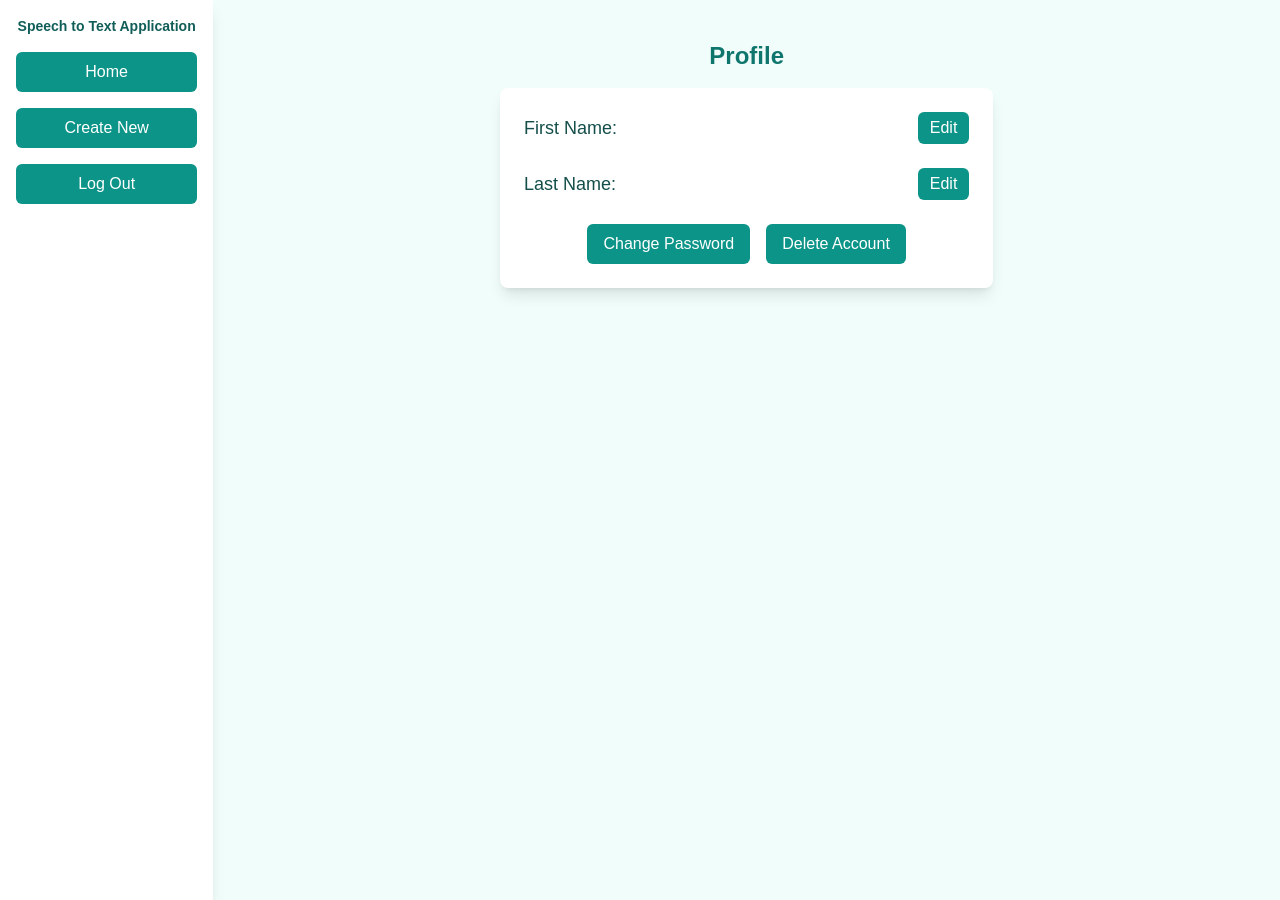
Profile Component › opens and closes the edit first name modal
Click the button "Edit" in the row of "First Name:" at {"x": 944, "y": 128}, box [918,112,969,144]
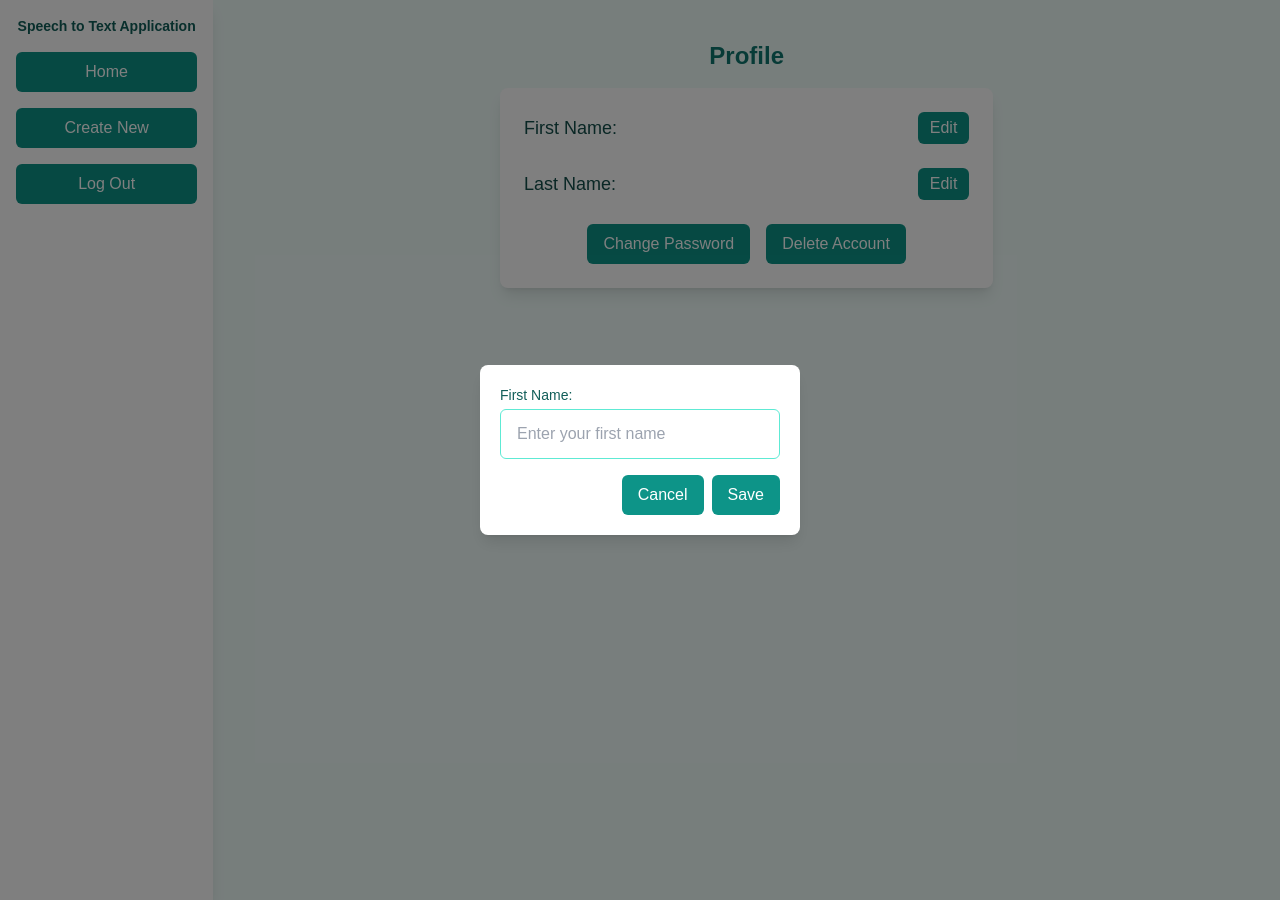
Expected: the field labelled "First Name:" is shown
Type "Jane" into the field labelled "First Name:" at {"x": 640, "y": 434}, box [500,409,780,459]
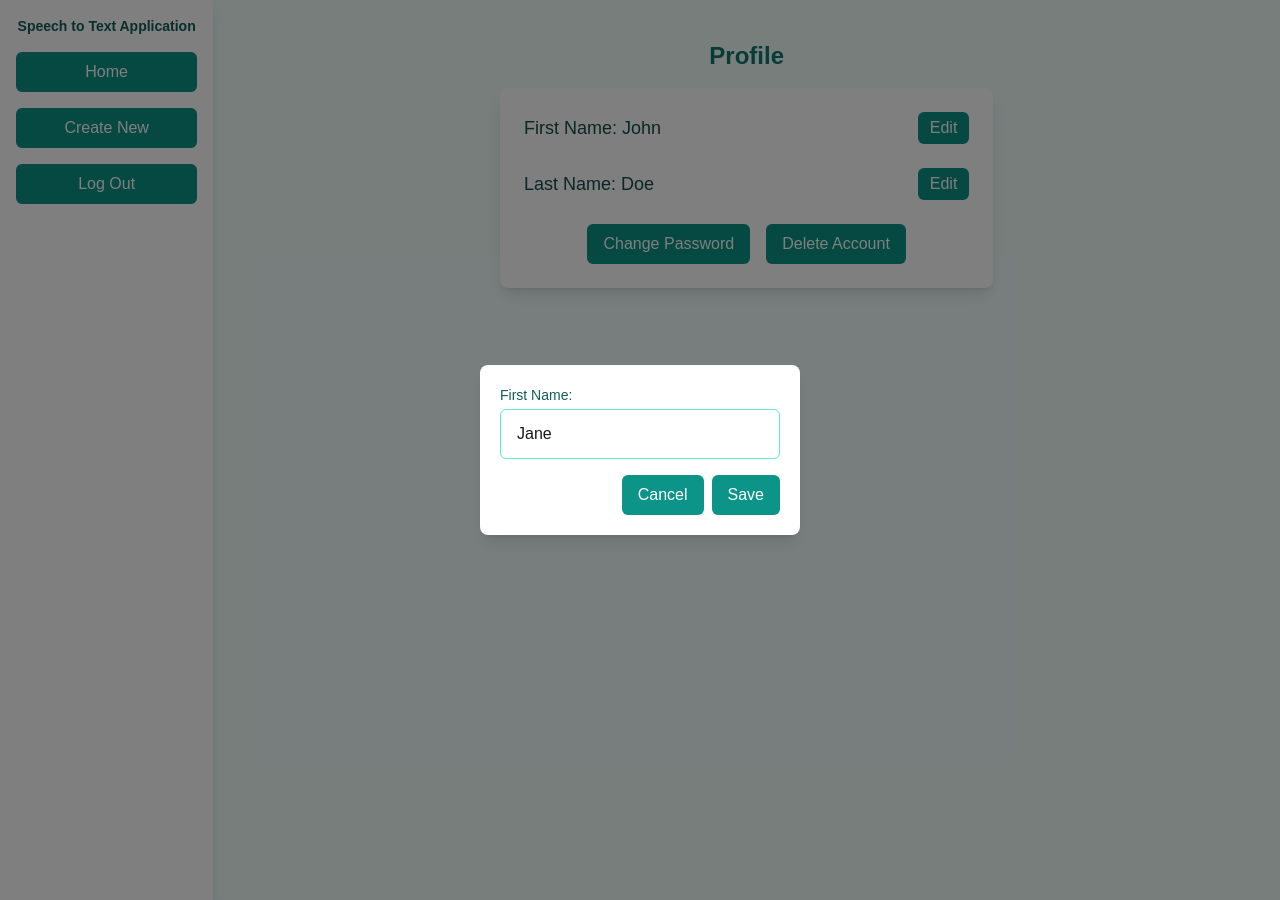
Click the button "Save" at {"x": 746, "y": 495}, box [712,475,780,515]
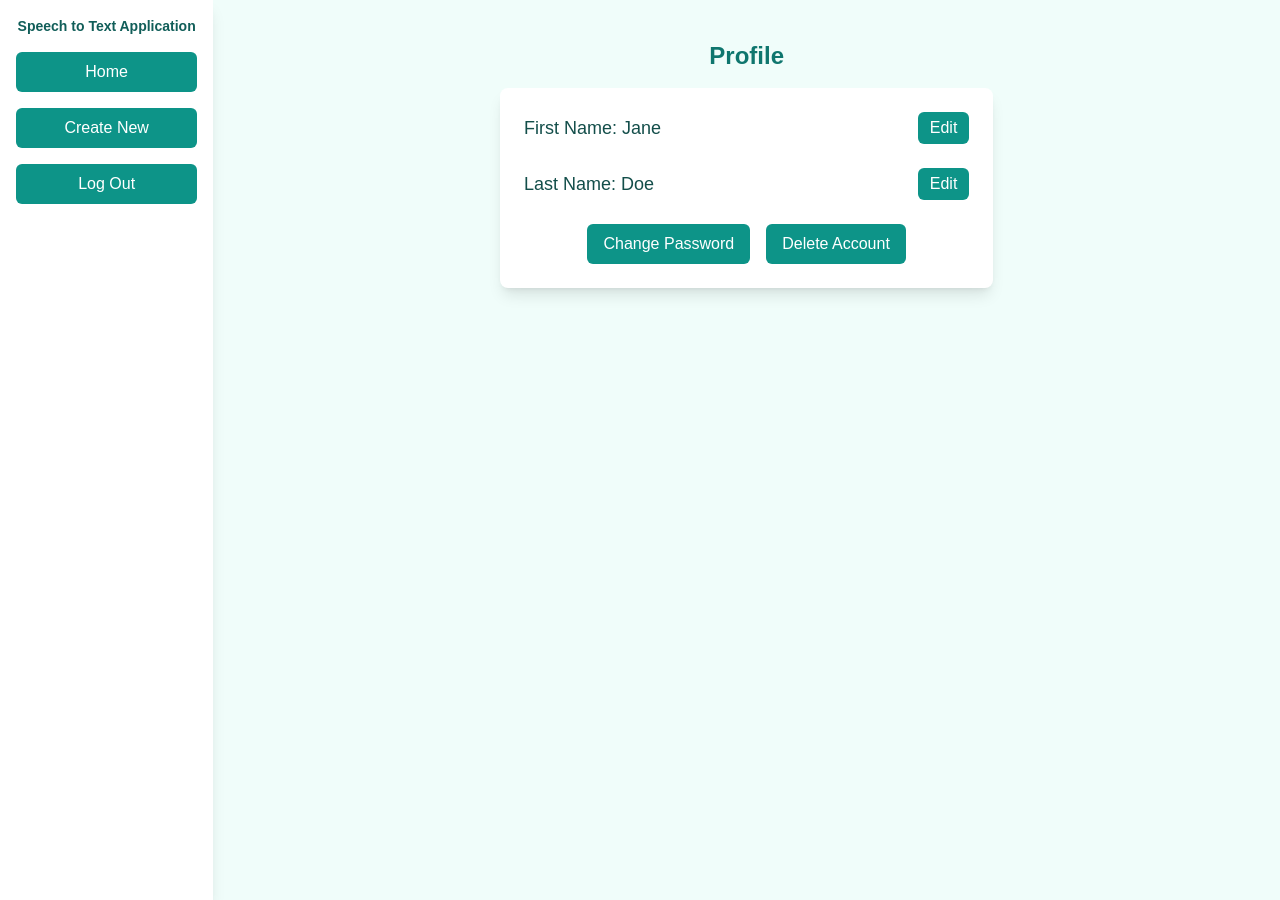
Expected: the text "First Name: Jane" is shown, [524,114,661,142]
